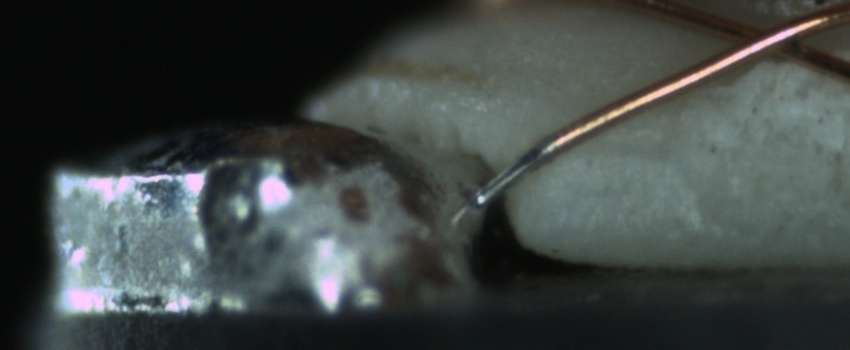CL: (705, 10, 831, 67)
DL: (556, 124, 676, 180)
TS: (473, 141, 556, 212)
TTCW: (470, 116, 591, 210)
